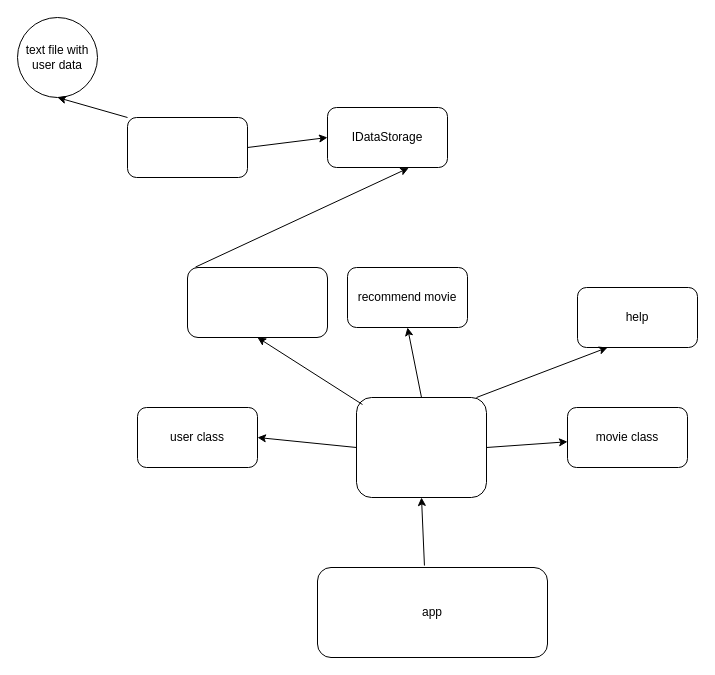
The diagram is 715 pixels wide and 675 high, and some of its shapes have lost their labels. Here are the shapes that lost their labels. From the top down, the centre of each, then its label:
(x=187, y=147): FileDataStorage.
(x=257, y=302): AddWatchedMovies
(x=421, y=447): menu
